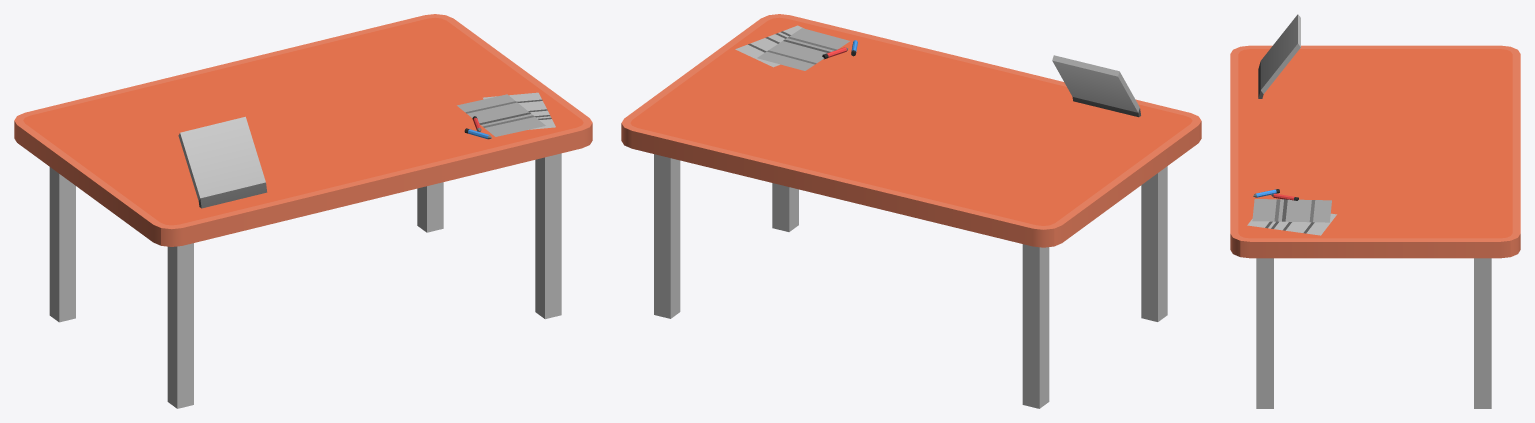
Rendered from Desk.fbx.
3 renders of one model, left to right at view 1: azimuth 30°, elevation 25°; view 2: azimuth 150°, elevation 25°; view 3: azimuth 270°, elevation 25°, orthographic. The views are drawn at different scales.
Visible parts, largest first — view 1: Desk; view 2: Desk; view 3: Desk.
Part boxes in pixels (<box>): Desk: <box>14,14,592,408</box>; Desk: <box>621,14,1201,408</box>; Desk: <box>1230,14,1520,408</box>.
Bounding box in the file's own units: 275 × 153 × 172.
